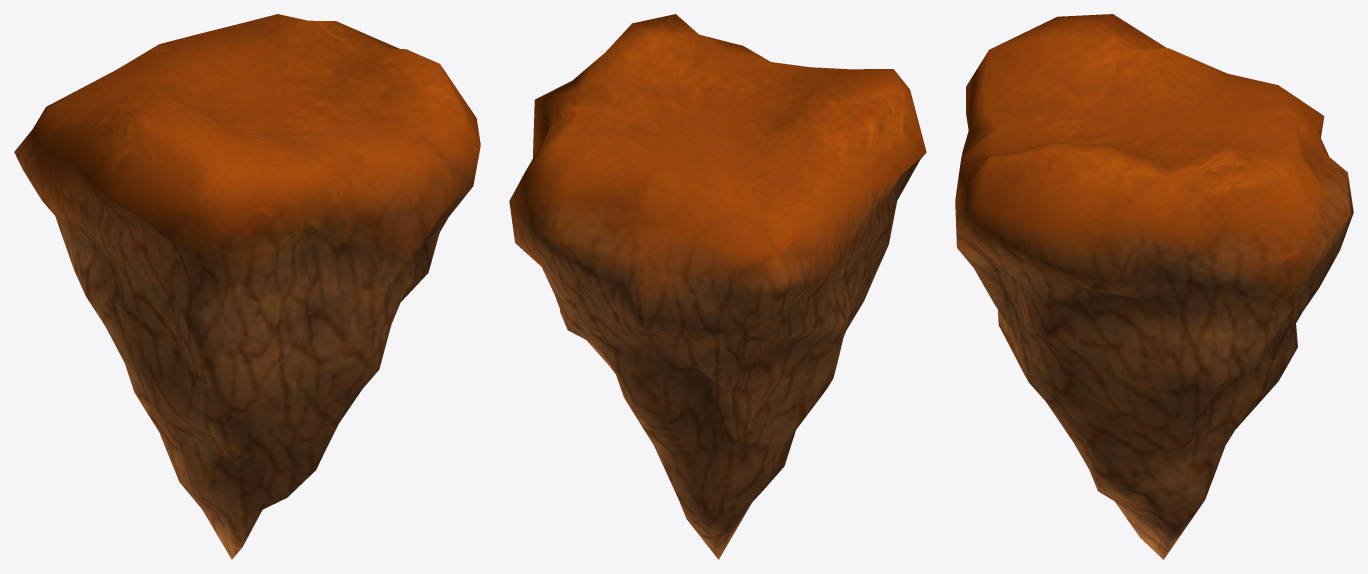
Rendered from isle_1.fbx.
The picture shows the model from 3 angles, left to right: view 1: azimuth 30°, elevation 25°; view 2: azimuth 150°, elevation 25°; view 3: azimuth 270°, elevation 25°; orthographic projection. The views are drawn at different scales.
Visible parts, largest first — view 1: isle_1; view 2: isle_1; view 3: isle_1.
Part boxes in pixels (box(x1,y1,x2,y2)): isle_1: box(14, 14, 480, 559); isle_1: box(509, 14, 926, 559); isle_1: box(955, 14, 1353, 559).
Bounding box in the file's own units: 126 × 164 × 124.
